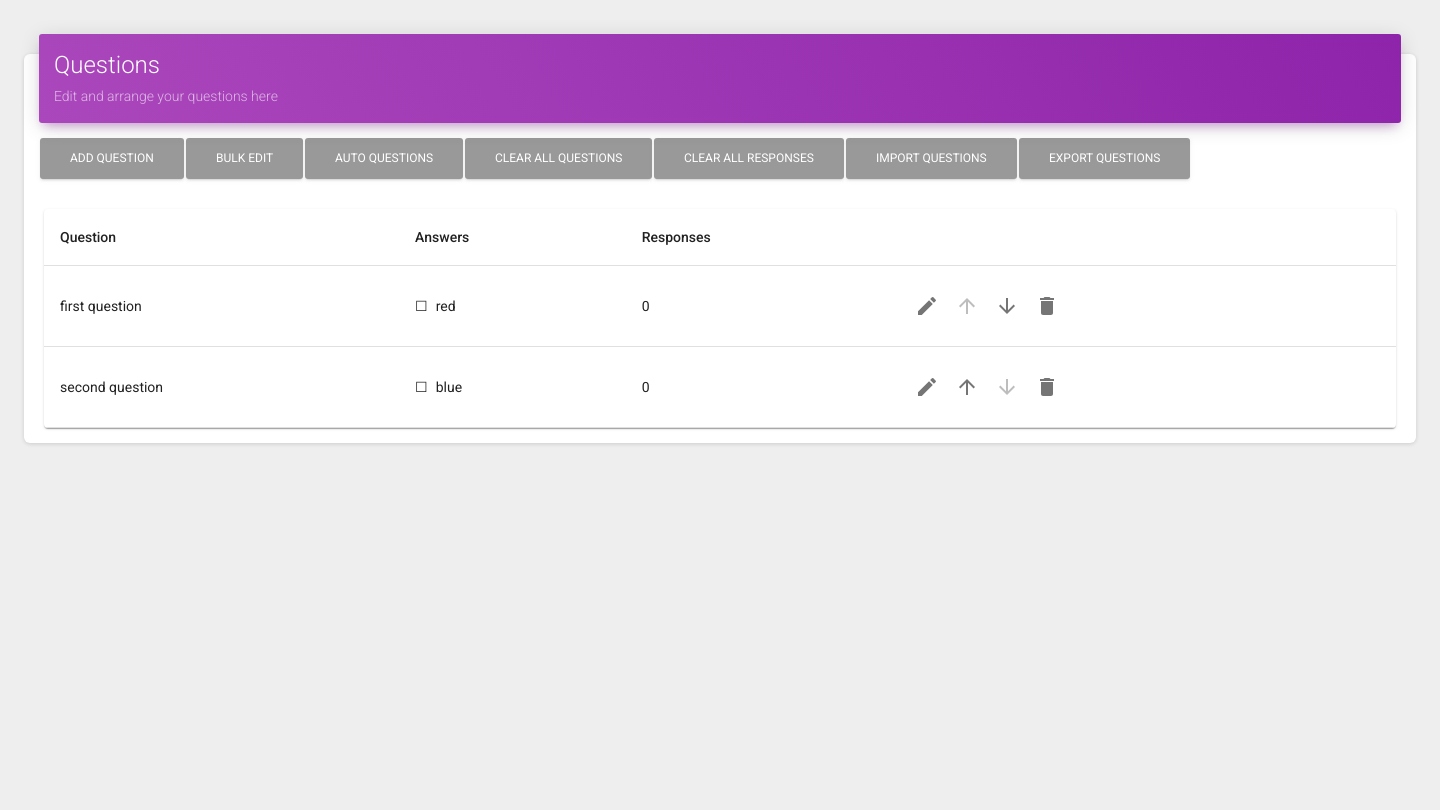
it: Editing questions › when generating auto questions in Trivia › replaces the questions table with the fetched questions
Click the button "Auto questions" at (384, 159), box [305,138,463,179]
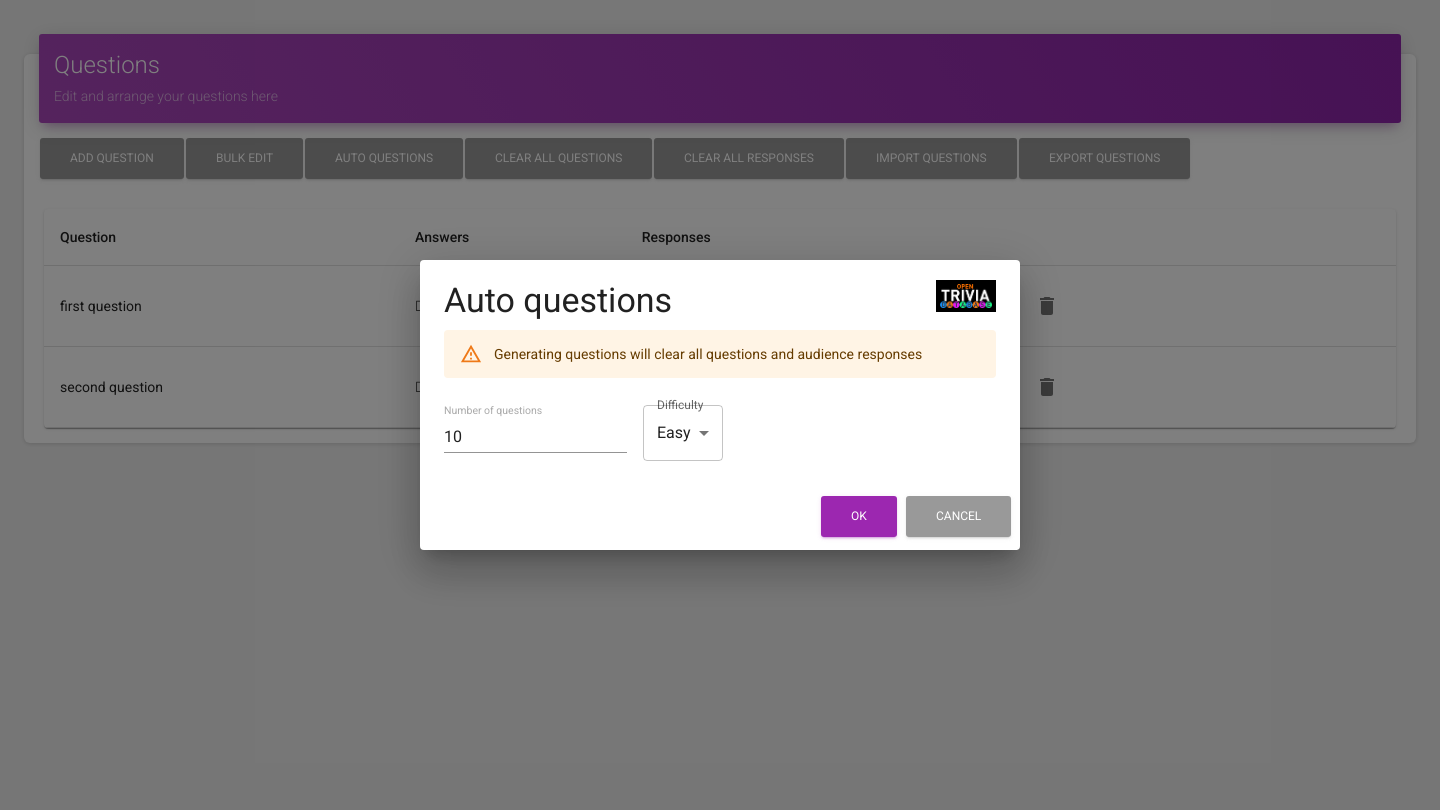
# act flushes the async fetch/import chain triggered by the click
Click the button "Ok" at (859, 516), box [821,496,897,537]
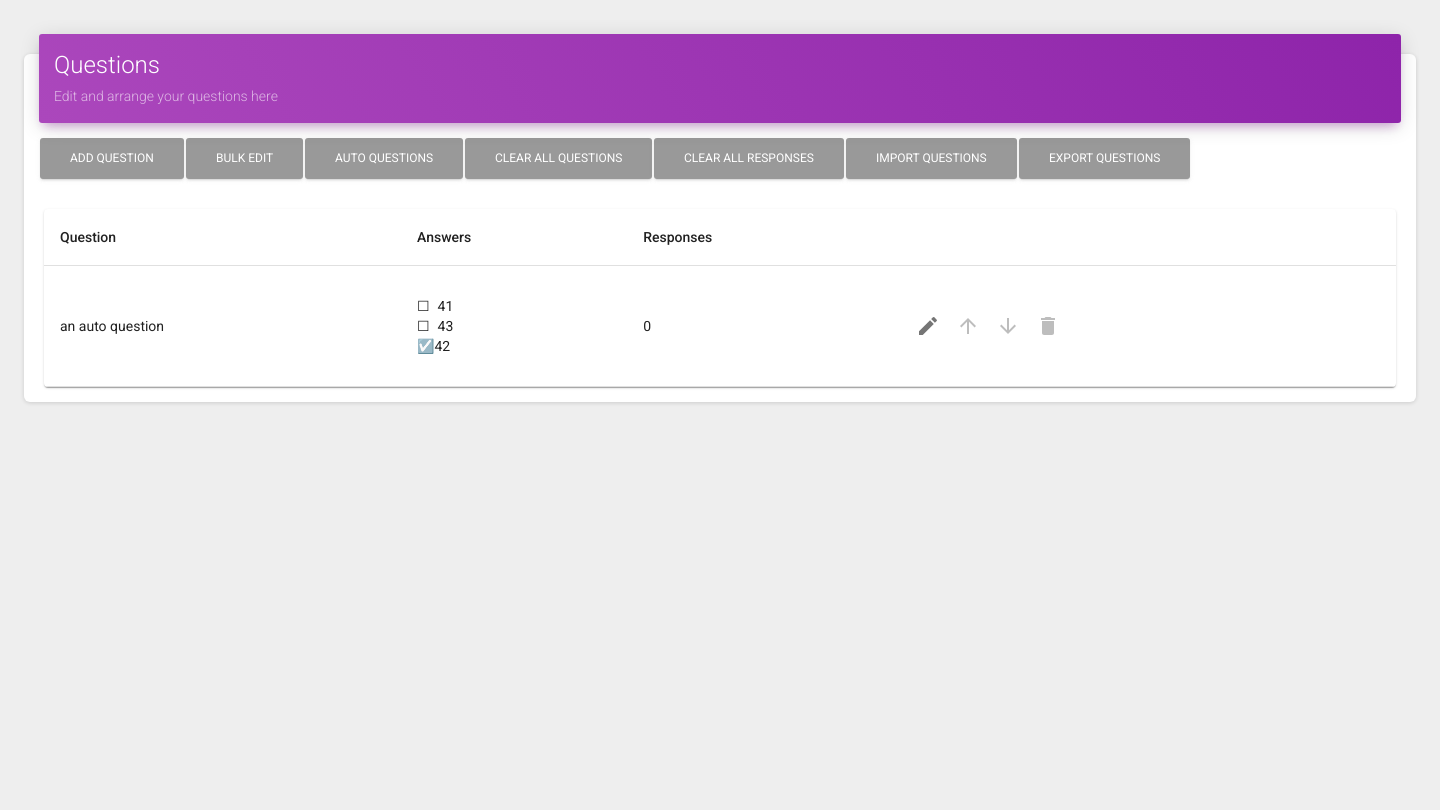
Now the column heading "an auto question" is shown, box [44,266,401,387]
Now the column heading "first question" is gone
